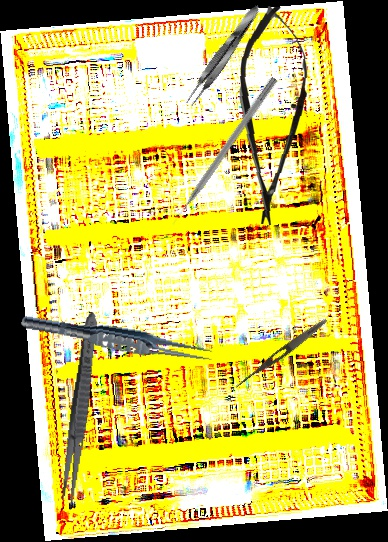Dressing Forceps: (57, 310, 103, 511), (232, 315, 330, 393)
Micro Scissor: (230, 4, 314, 227)
Pusher: (167, 75, 279, 227)
Tissue Forceps: (19, 310, 217, 368), (181, 1, 266, 110)
